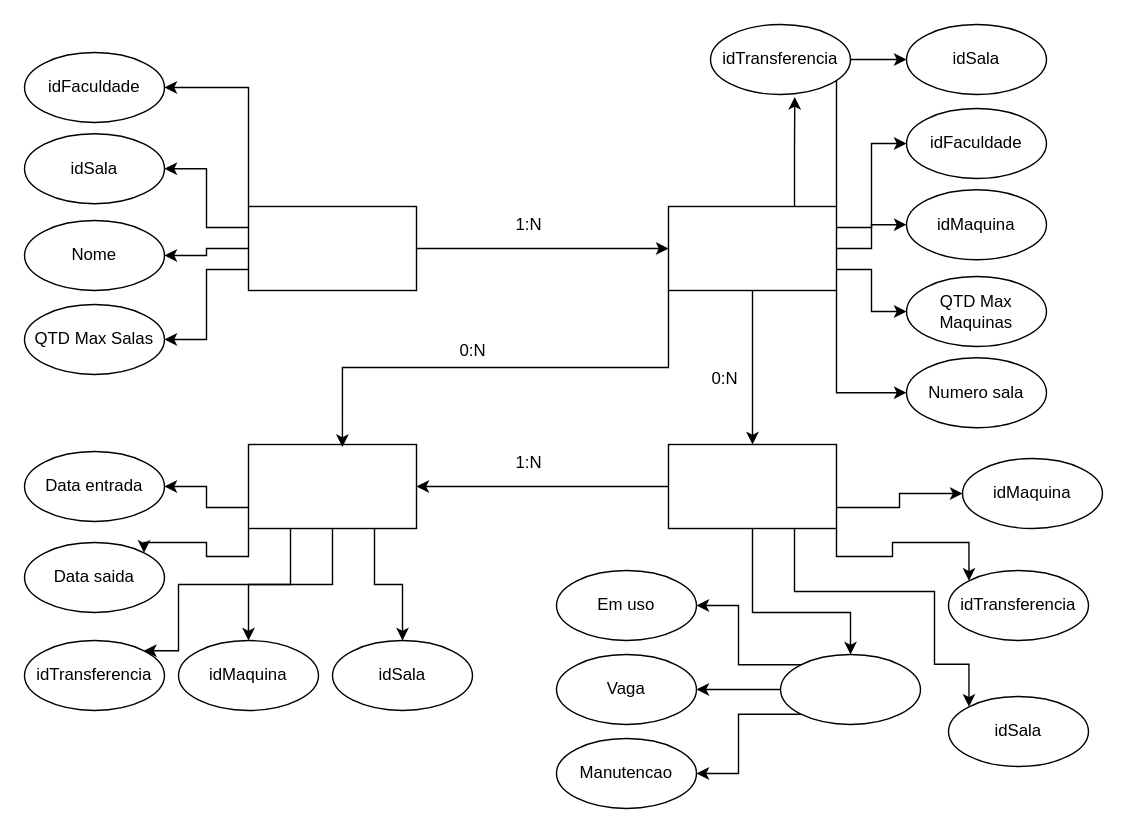
This 1127x833 diagram has some shape labels left out. The shapes that lost their labels are listed below. From the top down, each one's box as (x1, y1, x2, y2) in pixels, then its label:
(247, 205, 416, 290): Faculdade
(667, 205, 836, 290): Sala
(247, 443, 416, 528): Transferencia
(667, 443, 836, 528): Maquina
(779, 653, 920, 724): Status
